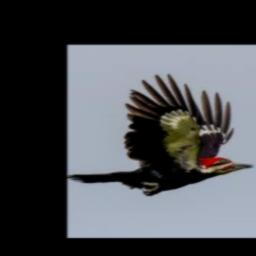Woodpecker: (68, 73, 255, 196)
